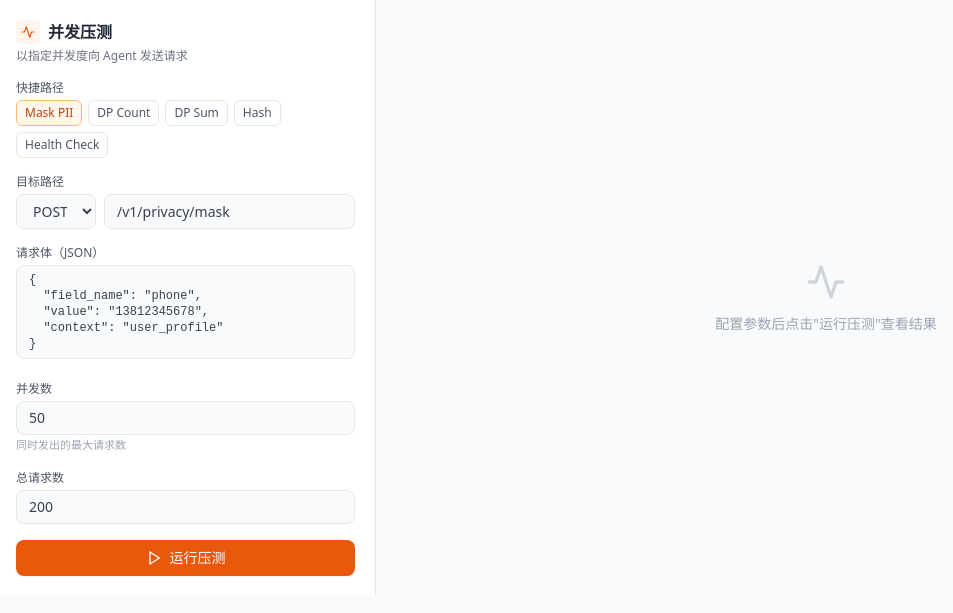
Scenario: ConcurrencyTestPanel › 点击预设按钮切换目标路径
This screenshot has width=953, height=613.
// 点击 DP Count 预设
Click the button "DP Count". click: (124, 113)
box: [88,100,160,126]
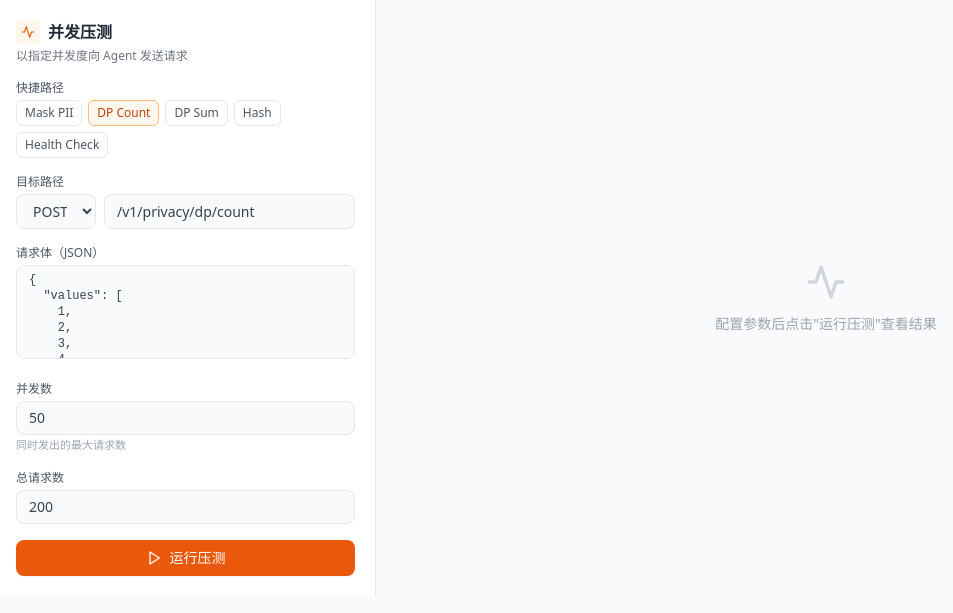
Result: the field with placeholder "/v1/privacy/mask" holds "/v1/privacy/dp/count" at [104,194,355,229]
